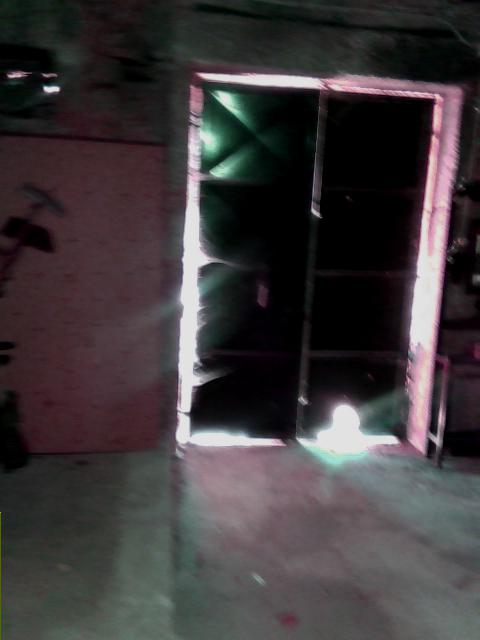closed_door: (168, 59, 462, 470)
